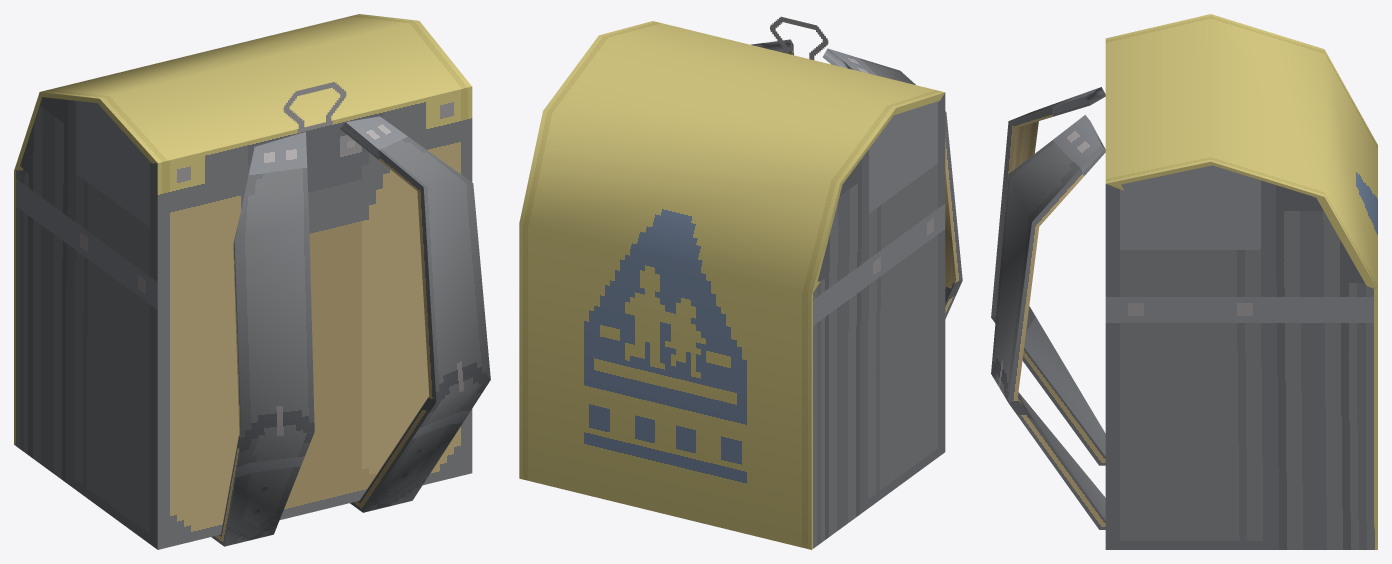
File: 01bf_Boy_s_Backpack.glb
3 renders of one model, left to right at view 1: azimuth 30°, elevation 25°; view 2: azimuth 150°, elevation 25°; view 3: azimuth 270°, elevation 25°, orthographic. The views are drawn at different scales.
Visible parts, largest first — view 1: part_0; view 2: part_0; view 3: part_0.
Part boxes in pixels (x1=…): part_0: x1=14, y1=14, x2=490, y2=549; part_0: x1=519, y1=16, x2=962, y2=549; part_0: x1=991, y1=14, x2=1377, y2=549.
Bounding box in the file's own units: 0.244 × 0.32 × 0.2701.
1 material, 1 textured.
